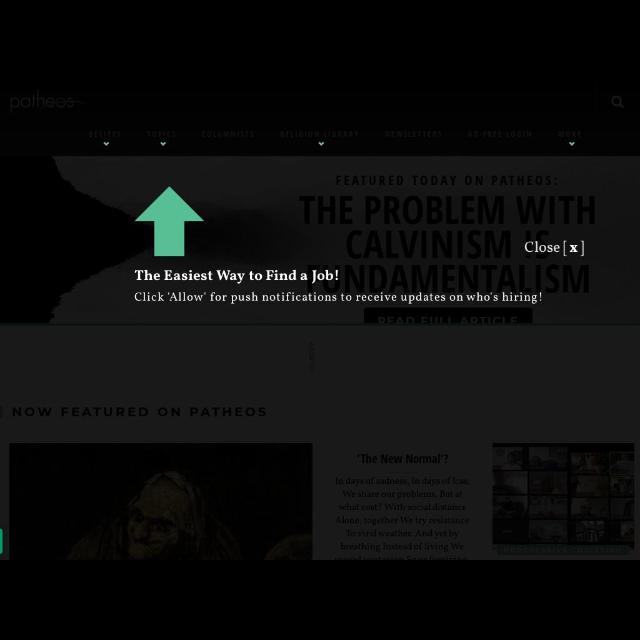icon: (136, 186, 204, 256), (611, 95, 625, 108), (160, 141, 167, 147), (102, 142, 110, 146), (319, 142, 325, 146), (569, 142, 575, 146)
image: (1, 158, 640, 324), (10, 444, 314, 558), (493, 444, 635, 558), (11, 90, 88, 114)
spinner: (278, 130, 359, 146), (88, 130, 122, 146), (146, 130, 178, 146), (557, 130, 583, 146)
text: (133, 270, 542, 304), (334, 476, 470, 560), (12, 408, 266, 418), (525, 240, 585, 258), (357, 454, 449, 464), (278, 130, 359, 138), (466, 131, 532, 139), (383, 130, 442, 138), (202, 130, 254, 138), (88, 130, 122, 138), (146, 130, 176, 138), (558, 130, 582, 140)
toolbar: (0, 81, 638, 157)
